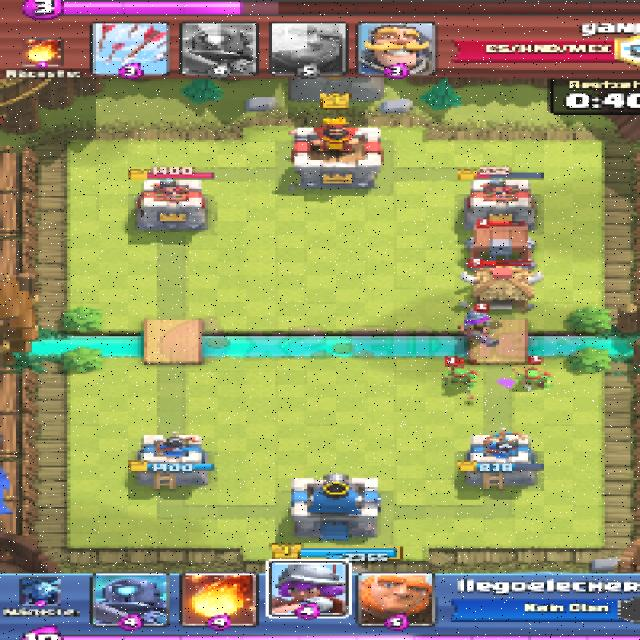Enemy-GoblinHut: (452, 269, 544, 313)
Enemy-Musketeer: (452, 311, 501, 344)
Enemy-SpearGoblin: (512, 368, 554, 391), (442, 366, 476, 387)
Player-GoblinCage: (464, 222, 537, 267)
